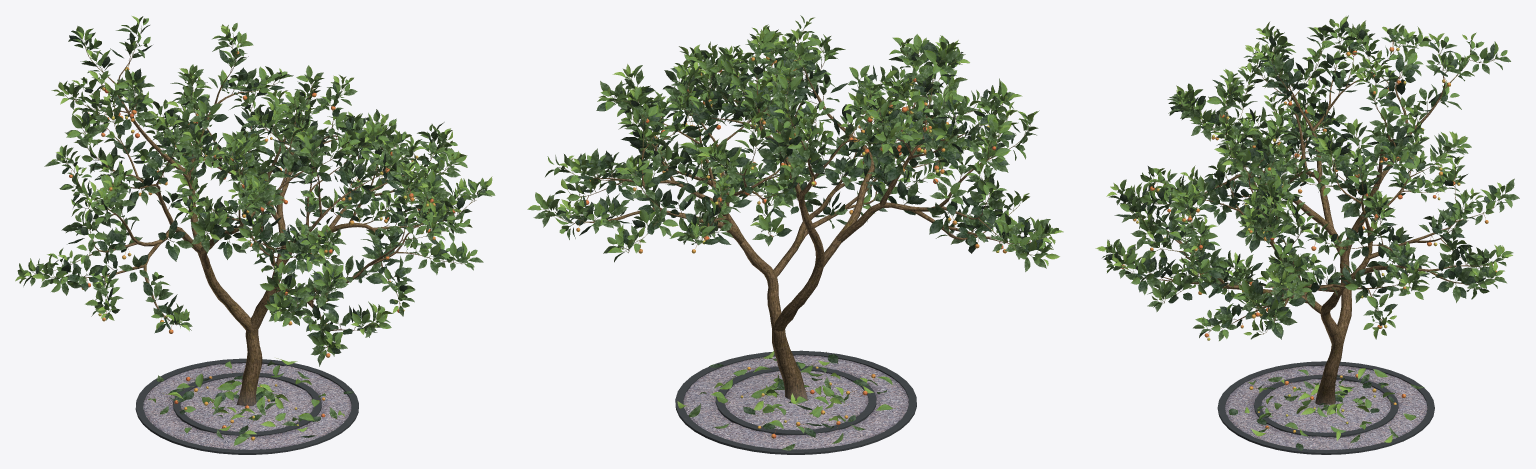
The model's file is summerTree.obj.
3 views of the same model, side by side, from view 1: azimuth 30°, elevation 25°; view 2: azimuth 150°, elevation 25°; view 3: azimuth 270°, elevation 25° (orthographic). The views are drawn at different scales.
Visible parts, largest first — view 1: summerTreeCrown_leaves, summerGround, summerTree, summerTreeCrown_leawesOnGround, summerTreeCrown_berries; view 2: summerTreeCrown_leaves, summerGround, summerTree, summerTreeCrown_leawesOnGround, summerTreeCrown_berries; view 3: summerTreeCrown_leaves, summerGround, summerTree, summerTreeCrown_leawesOnGround, summerTreeCrown_berries.
Part boxes in pixels (x1=…): summerTreeCrown_leaves: x1=15, y1=16, x2=495, y2=366; summerGround: x1=135, y1=358, x2=358, y2=454; summerTree: x1=43, y1=30, x2=479, y2=405; summerTreeCrown_leawesOnGround: x1=148, y1=358, x2=353, y2=445; summerTreeCrown_berries: x1=69, y1=50, x2=455, y2=357; summerTreeCrown_leaves: x1=527, y1=15, x2=1063, y2=271; summerGround: x1=675, y1=350, x2=916, y2=454; summerTree: x1=547, y1=29, x2=1043, y2=400; summerTreeCrown_leawesOnGround: x1=677, y1=351, x2=895, y2=450; summerTreeCrown_berries: x1=576, y1=52, x2=1030, y2=253; summerTreeCrown_leaves: x1=1095, y1=15, x2=1519, y2=340; summerGround: x1=1217, y1=361, x2=1434, y2=454; summerTree: x1=1119, y1=35, x2=1500, y2=404; summerTreeCrown_leawesOnGround: x1=1229, y1=368, x2=1424, y2=450; summerTreeCrown_berries: x1=1121, y1=41, x2=1496, y2=340.
Bounding box in the file's own units: 6.72 × 5.43 × 5.9.
